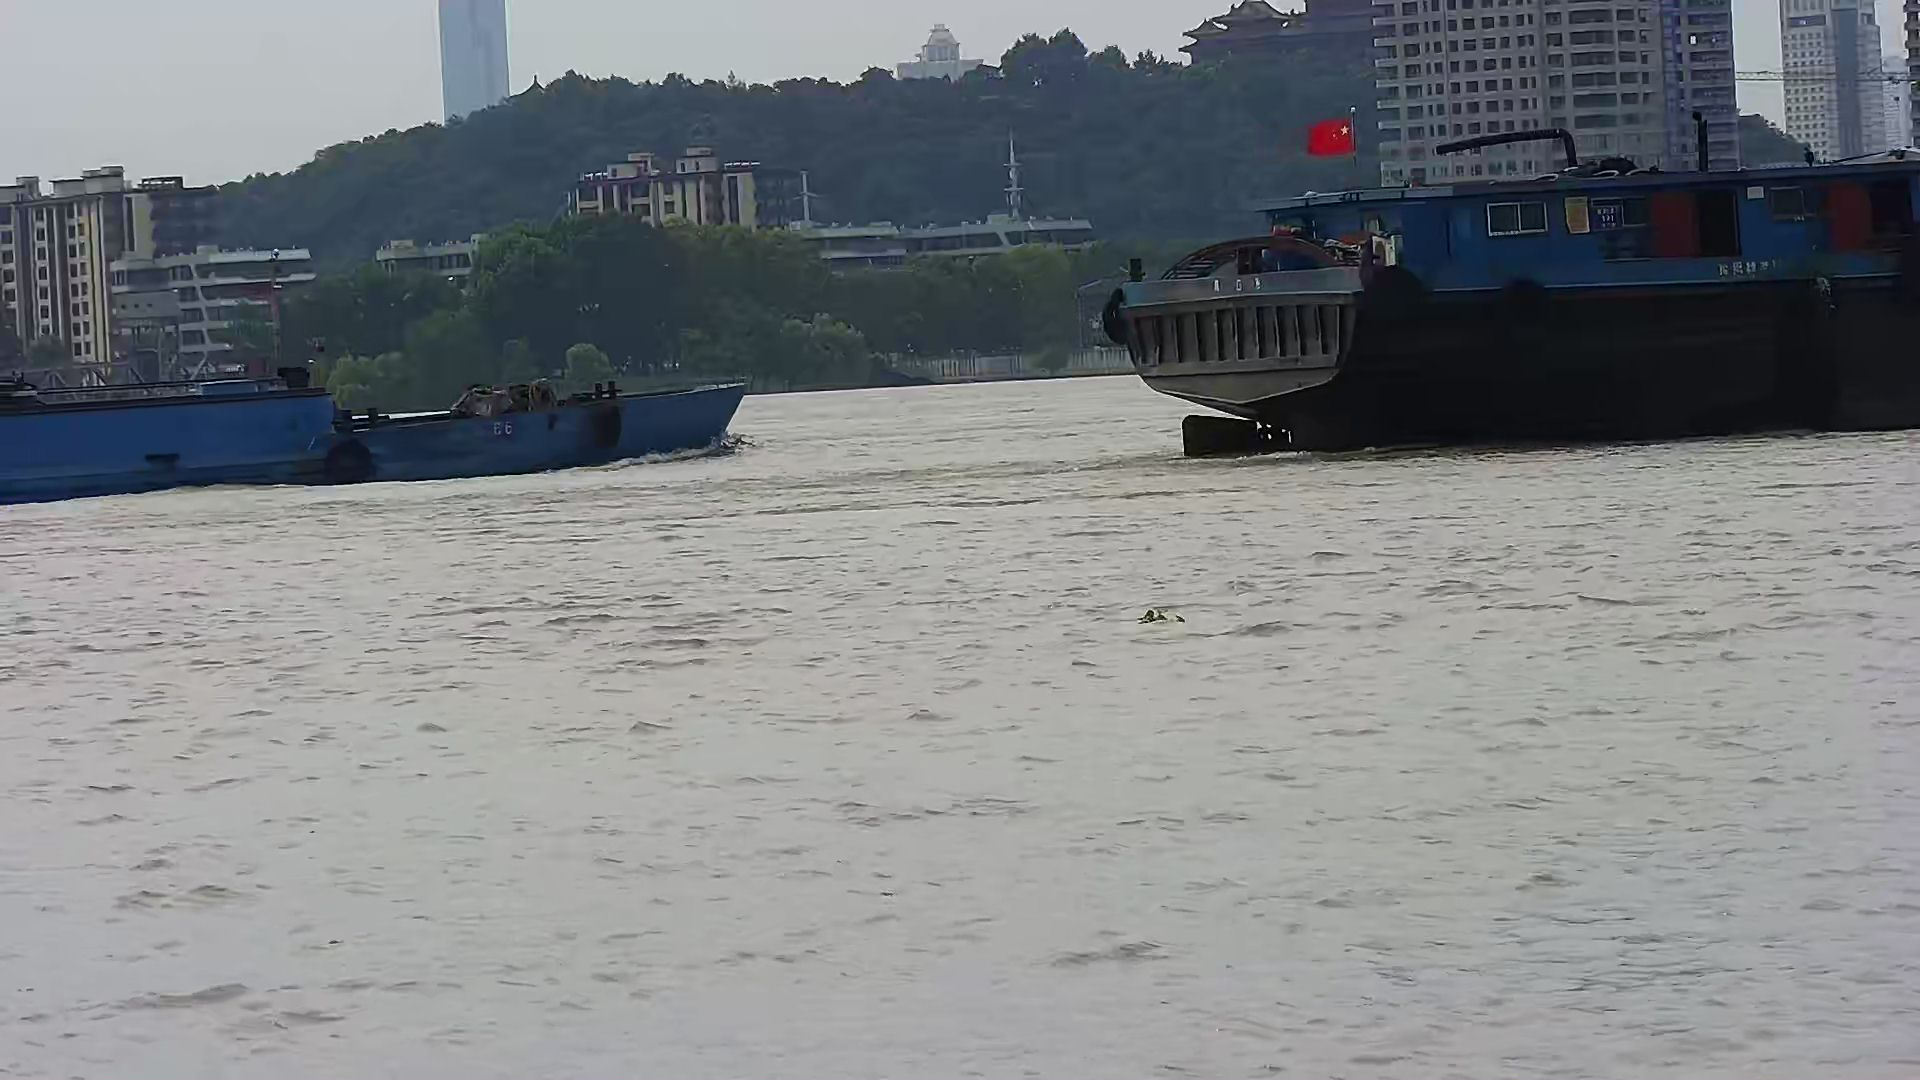ship: (1097, 160, 1920, 454), (1, 367, 746, 504)
